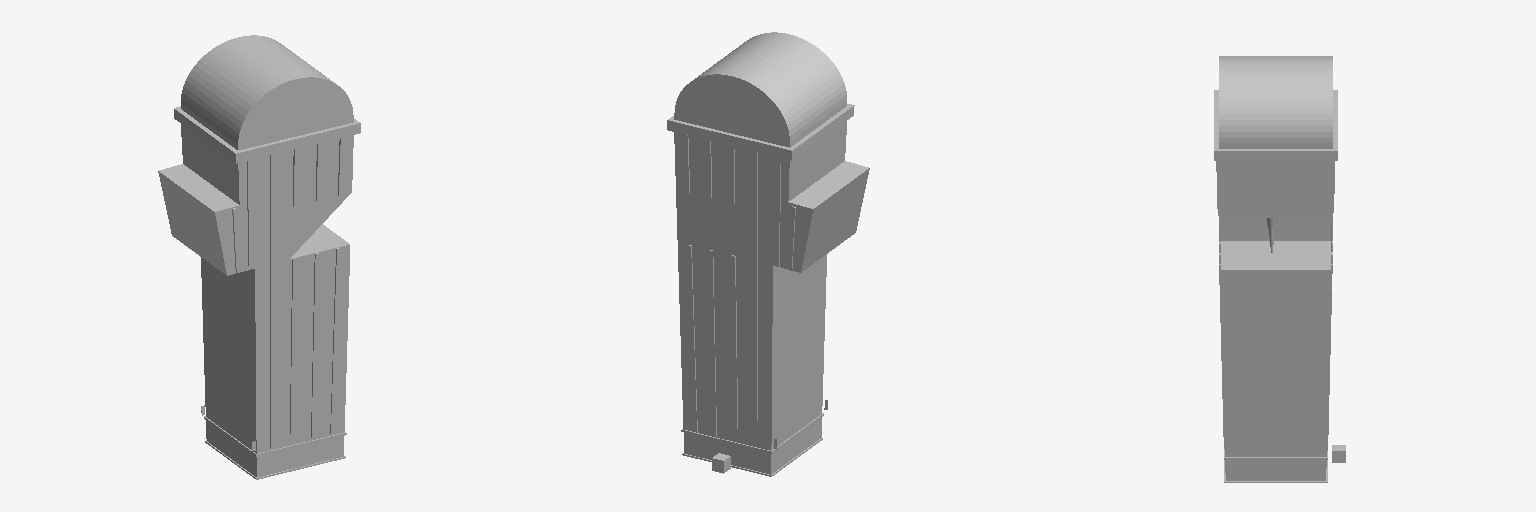
File: robotic-hand.obj
3 views of the same model, side by side, from view 1: azimuth 30°, elevation 25°; view 2: azimuth 150°, elevation 25°; view 3: azimuth 270°, elevation 25° (orthographic).
Parts seen in each view (by area): view 1: Cube, Cube.002, Cube.013, Cube.014, Cube.016, Cube.015; view 2: Cube, Cube.002, Cube.009, Cube.005, Cube.008, Cube.006; view 3: Cube, Cube.002.
Part boxes in pixels (bbox=[...]): Cube: bbox=[158, 106, 360, 479]; Cube.002: bbox=[181, 35, 353, 150]; Cube.013: bbox=[270, 155, 273, 447]; Cube.014: bbox=[290, 149, 297, 442]; Cube.016: bbox=[330, 137, 343, 433]; Cube.015: bbox=[311, 143, 320, 437]; Cube: bbox=[667, 104, 869, 476]; Cube.002: bbox=[674, 32, 846, 147]; Cube.009: bbox=[754, 152, 757, 446]; Cube.005: bbox=[684, 135, 697, 432]; Cube.008: bbox=[730, 146, 737, 441]; Cube.006: bbox=[707, 140, 716, 436]; Cube: bbox=[1214, 90, 1337, 482]; Cube.002: bbox=[1219, 56, 1332, 148].
Bounding box in the file's own units: 23.67 × 62.22 × 18.96.